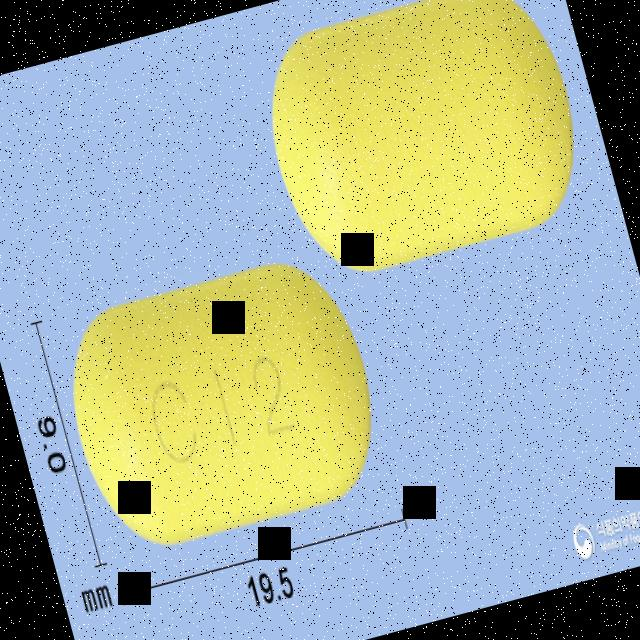Clomycin: (48, 244, 396, 560)
